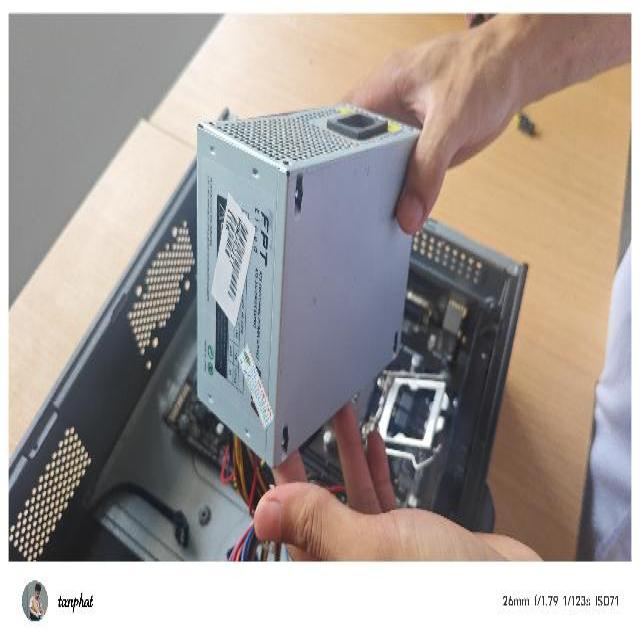PSU: (192, 105, 424, 471)
